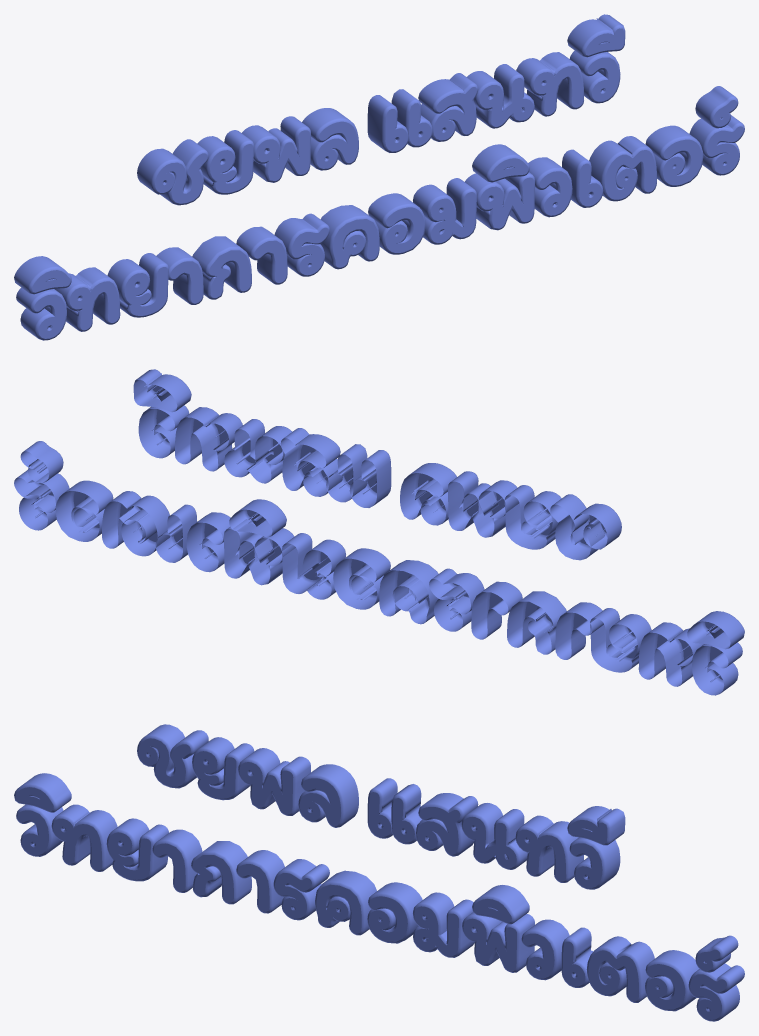
3 renders of one model, top to bottom at view 1: azimuth 30°, elevation 25°; view 2: azimuth 150°, elevation 25°; view 3: azimuth 330°, elevation 25°, orthographic.
Visible parts, largest first — view 1: Text; view 2: Text; view 3: Text.
Boxes of the visible parts, <box> form: Text: <box>14,14,744,340</box>; Text: <box>14,369,744,695</box>; Text: <box>14,724,744,1021</box>.
Bounding box in the file's own units: 1.34 × 0.3164 × 0.0502.
